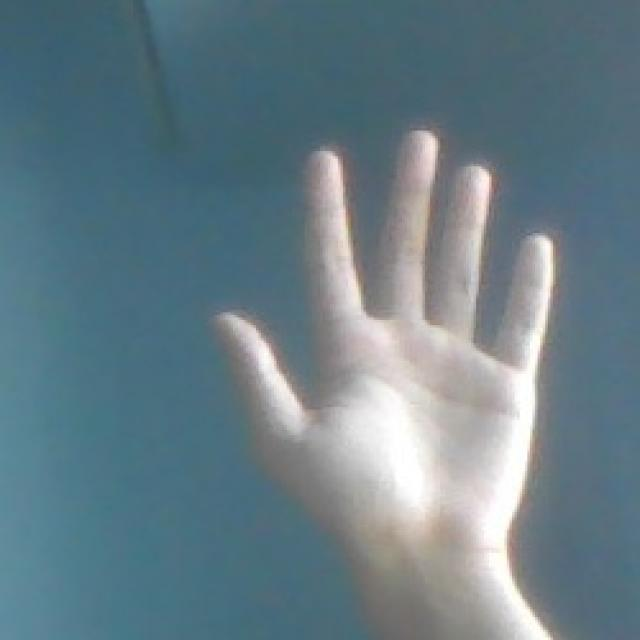Numeric-5: (211, 127, 558, 556)
